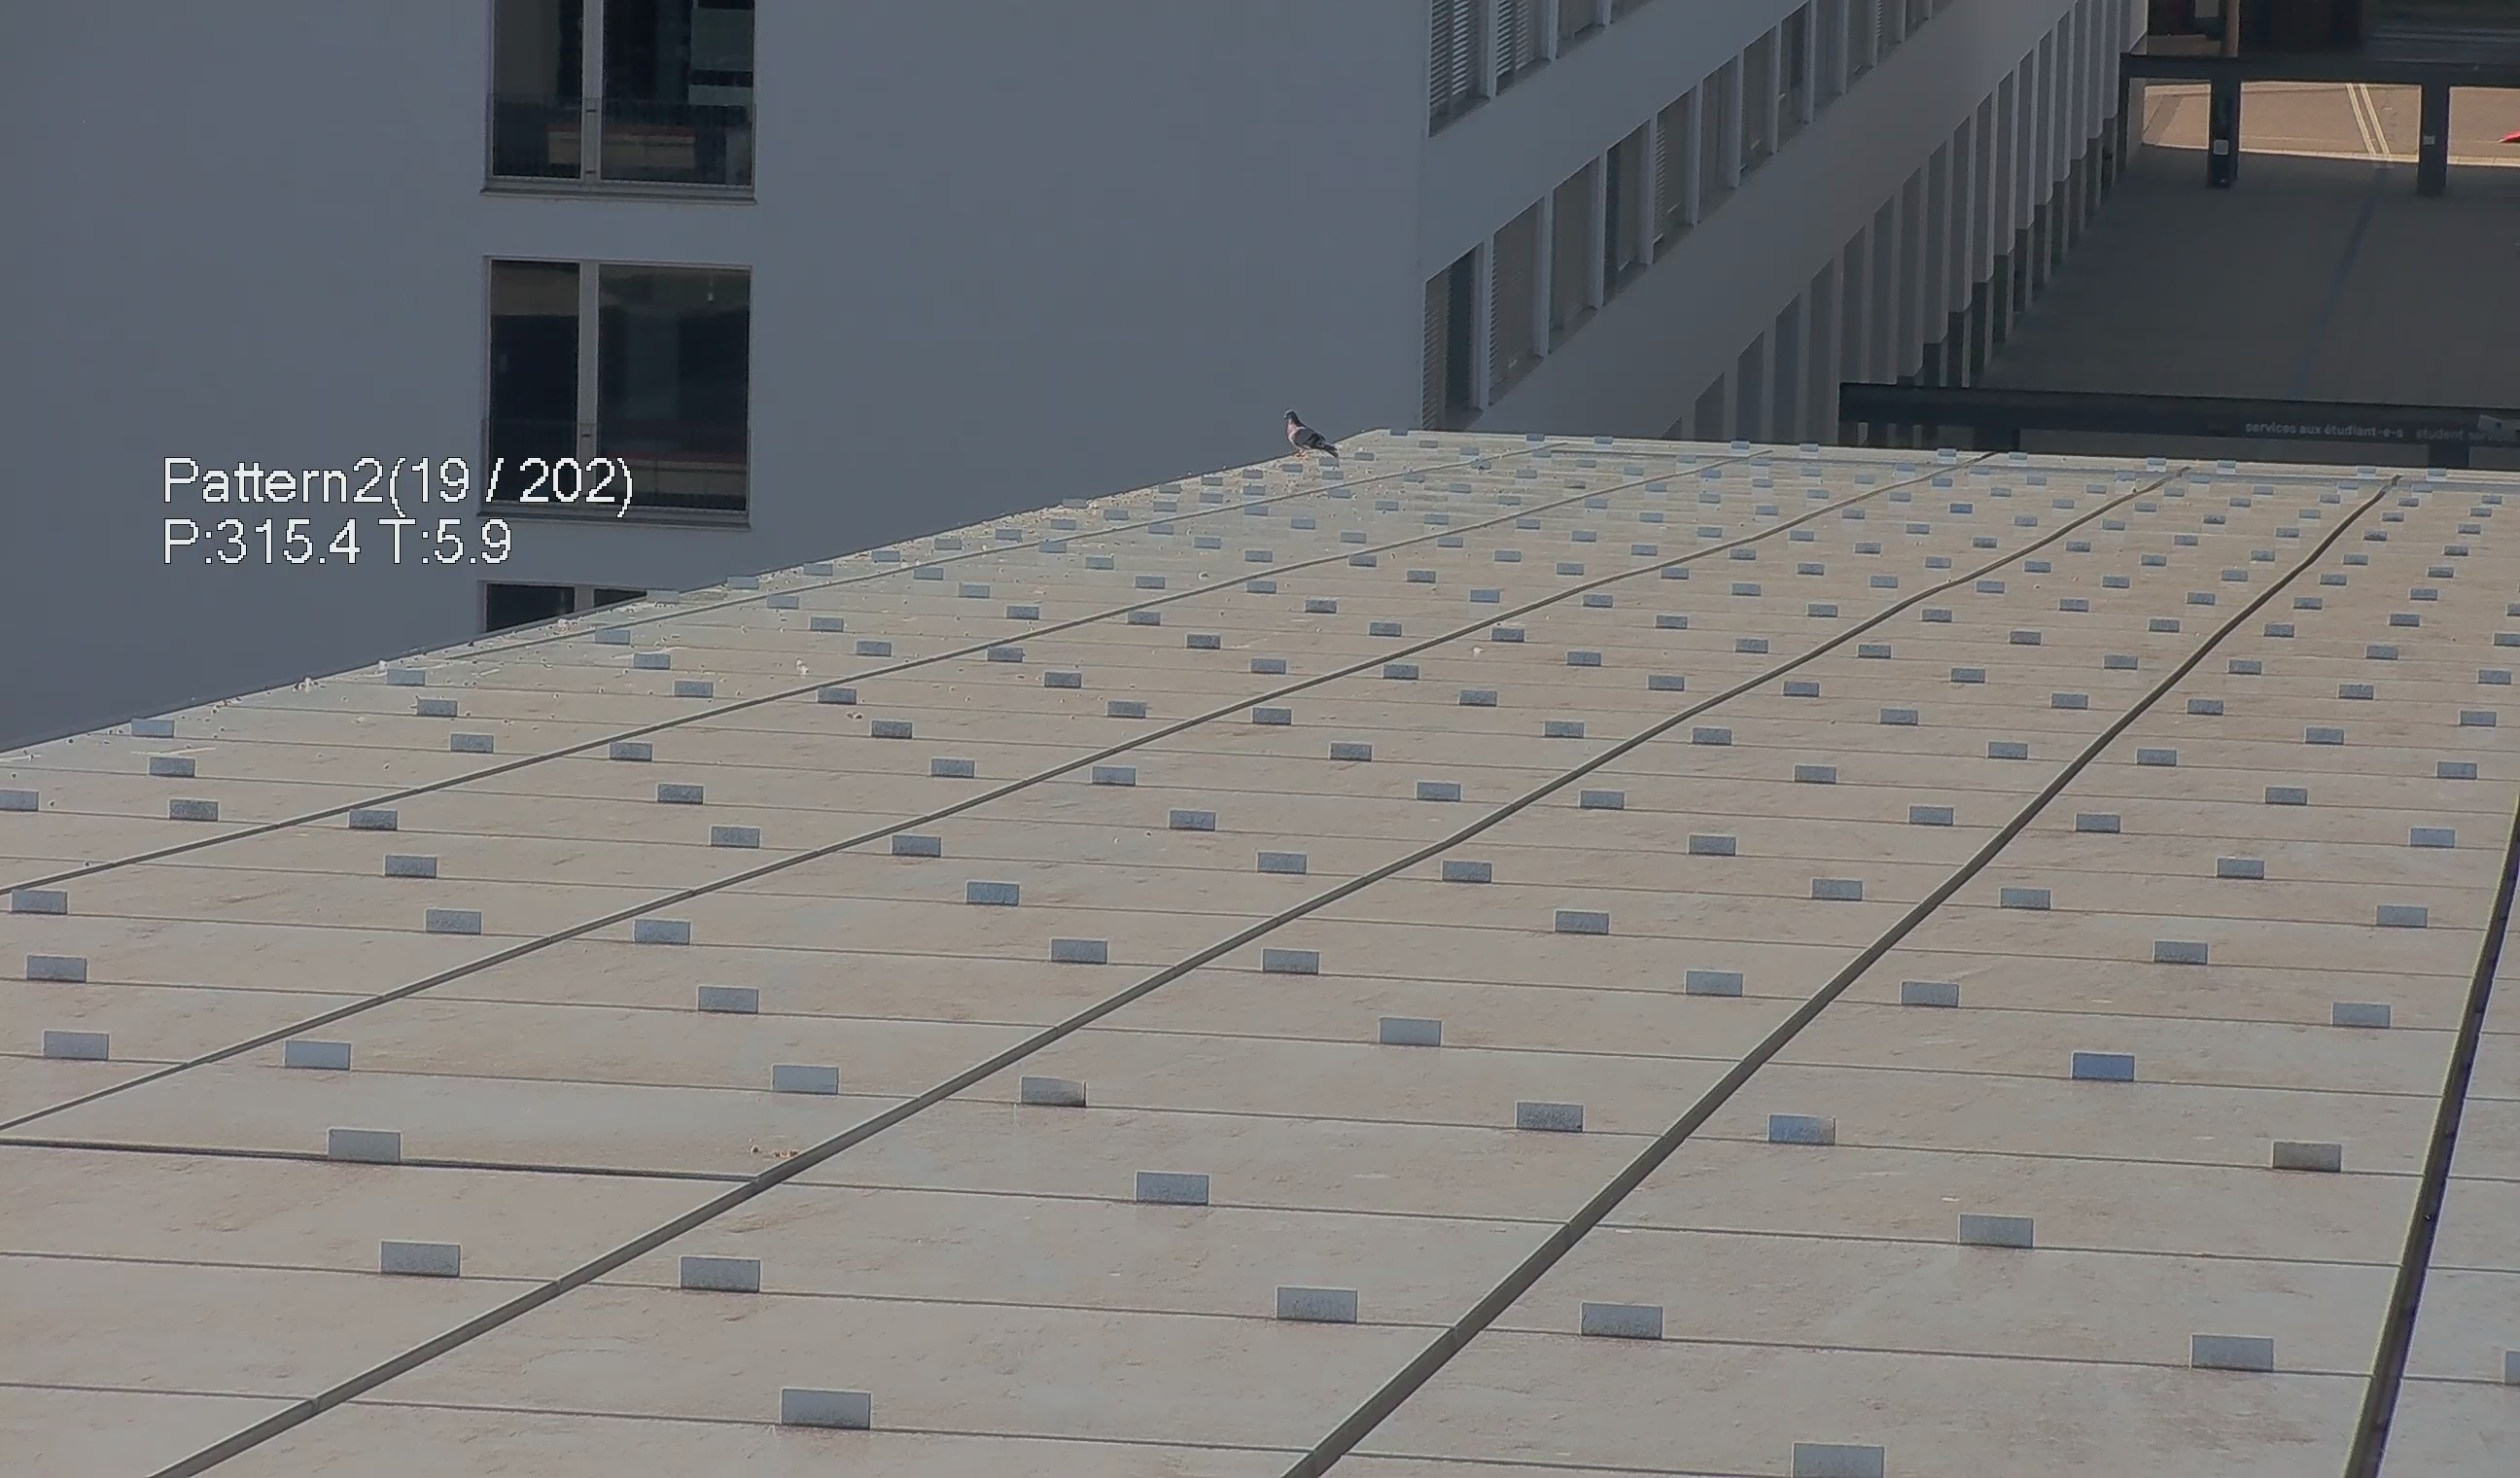Pigeon: (1271, 405, 1354, 461)
